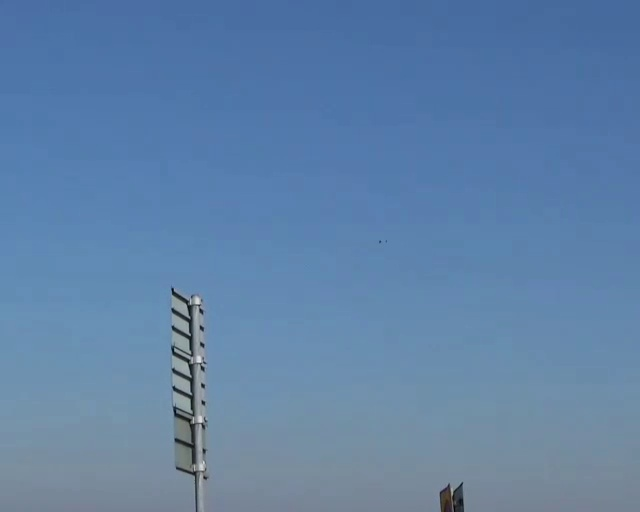BIRD: (377, 237, 388, 246)
